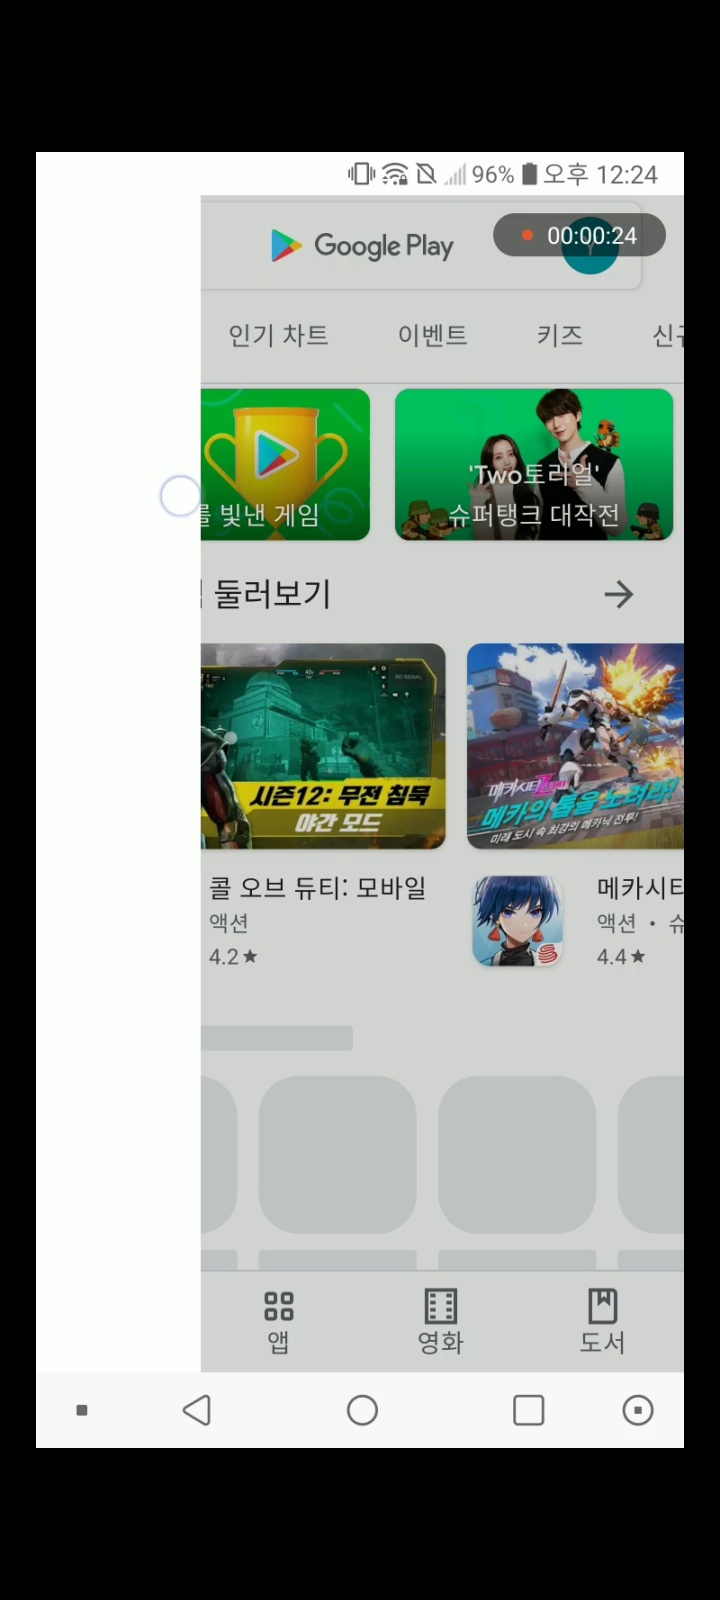Cursor: (157, 474, 202, 519)
